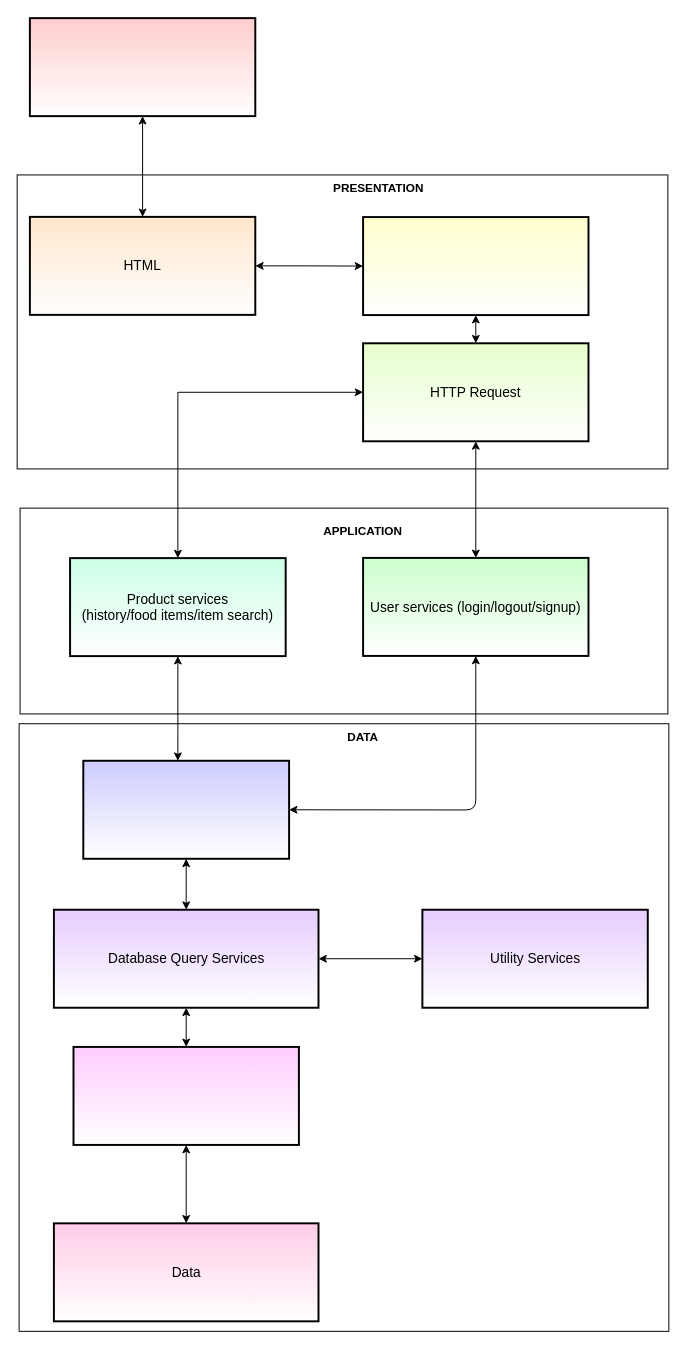
This 686x1348 diagram has some shape labels left out. Each missing label, with the centre of its shape:
"Data Interface" goes at [186,809].
"JS" goes at [475,266].
"POSTGRES DBMS" goes at [185,1095].
"User" goes at [142,67].
